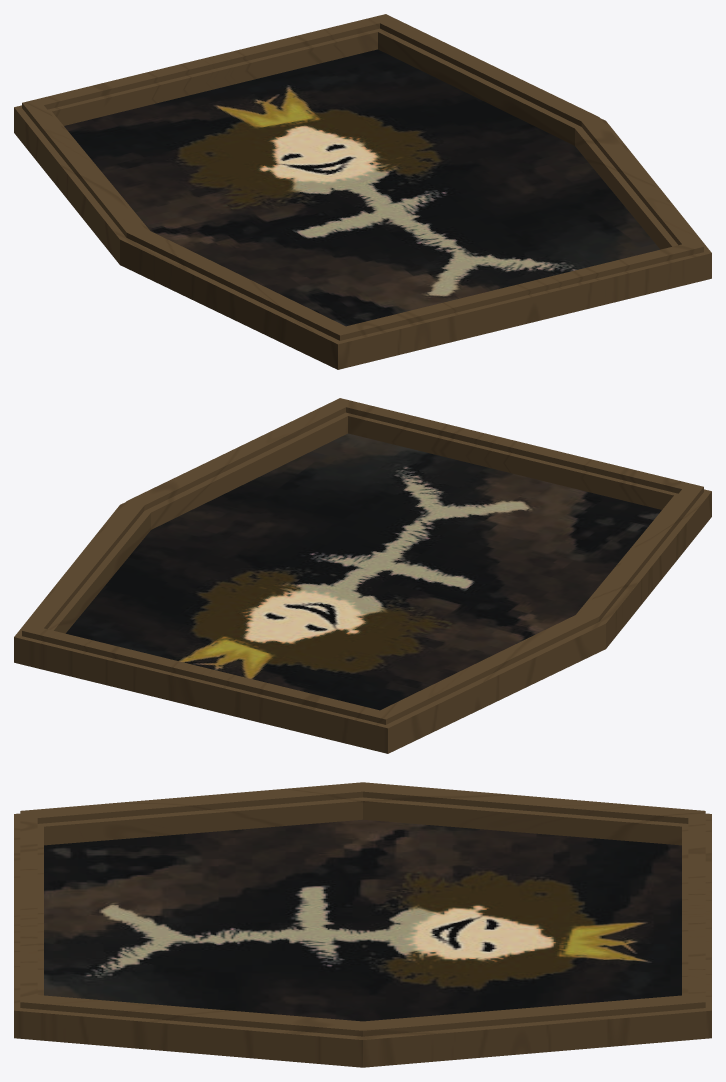
Rendered from isa.fbx.
The picture shows the model from 3 angles, top to bottom: view 1: azimuth 30°, elevation 25°; view 2: azimuth 150°, elevation 25°; view 3: azimuth 270°, elevation 25°; orthographic projection. The views are drawn at different scales.
Parts seen in each view (by area): view 1: Cuadros; view 2: Cuadros; view 3: Cuadros.
Boxes of the visible parts, x1=… form: Cuadros: x1=14, y1=14, x2=711, y2=369; Cuadros: x1=14, y1=398, x2=711, y2=753; Cuadros: x1=14, y1=782, x2=711, y2=1067.
Size of the model in its own units: 83.44 by 5.08 by 96.3.
Materials: 2 (2 with a texture image).
